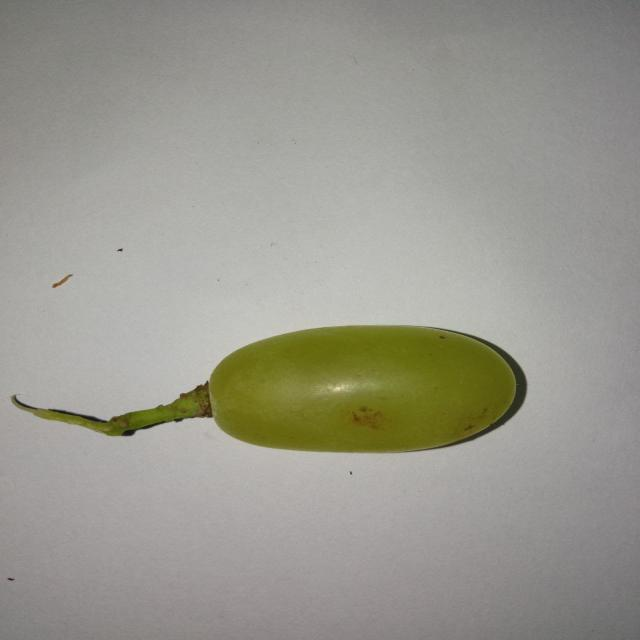fresh_grape: (217, 327, 501, 451)
